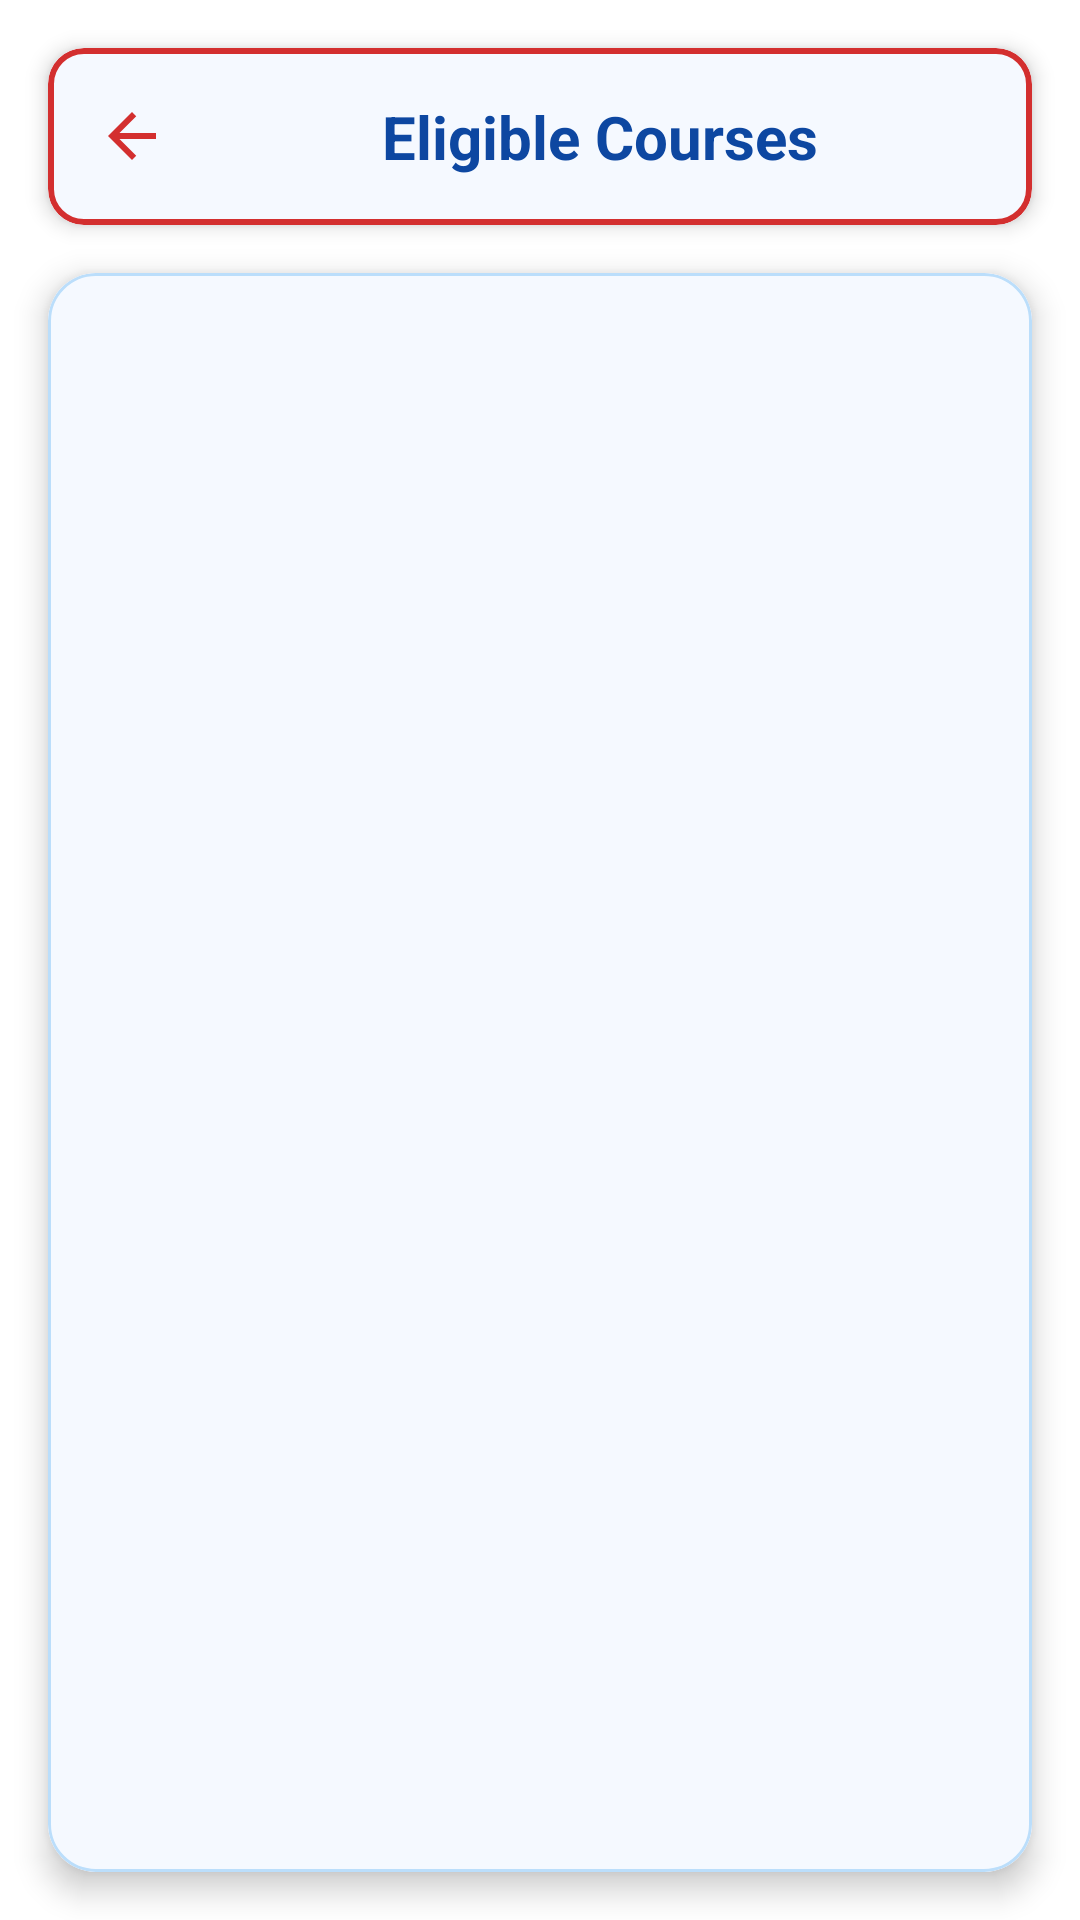

Where icons sit on this 1080*1920 app screen, as (x1, y1, x2, y2):
arrow back: (108, 112, 156, 160)
